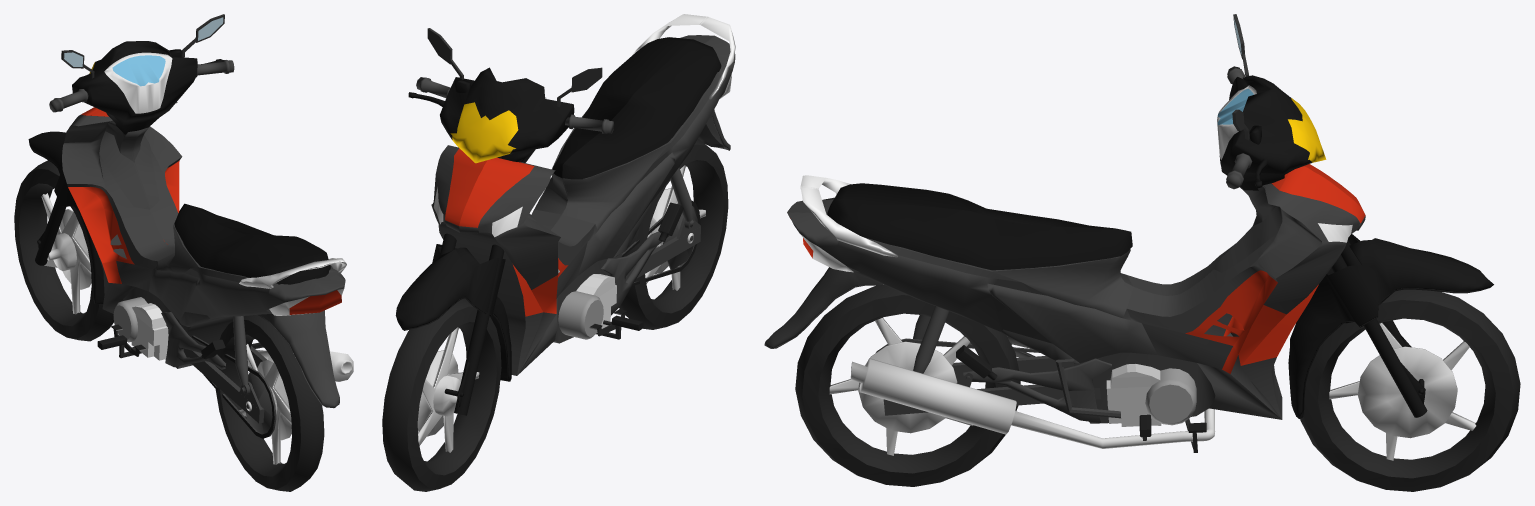
File: motor supra.fbx
3 renders of one model, left to right at view 1: azimuth 30°, elevation 25°; view 2: azimuth 150°, elevation 25°; view 3: azimuth 270°, elevation 25°, orthographic. The views are drawn at different scales.
Parts seen in each view (by area): view 1: bodi, batok, ban depan.001, ban depan.002; view 2: bodi, batok, ban depan.002, ban depan.001; view 3: bodi, ban depan.002, batok, ban depan.001.
Part boxes in pixels (x1,y1,x2,y2): bodi: (62, 102, 353, 438); batok: (28, 14, 234, 304); ban depan.001: (215, 314, 324, 491); ban depan.002: (14, 160, 113, 341); bodi: (431, 14, 735, 375); batok: (395, 28, 614, 415); ban depan.002: (382, 298, 501, 491); ban depan.001: (619, 138, 728, 329); bodi: (764, 164, 1365, 452); ban depan.002: (1300, 289, 1520, 491); batok: (1217, 14, 1493, 418); ban depan.001: (795, 285, 1020, 486).
Bounding box in the file's own units: 59.11 × 111 × 176.
